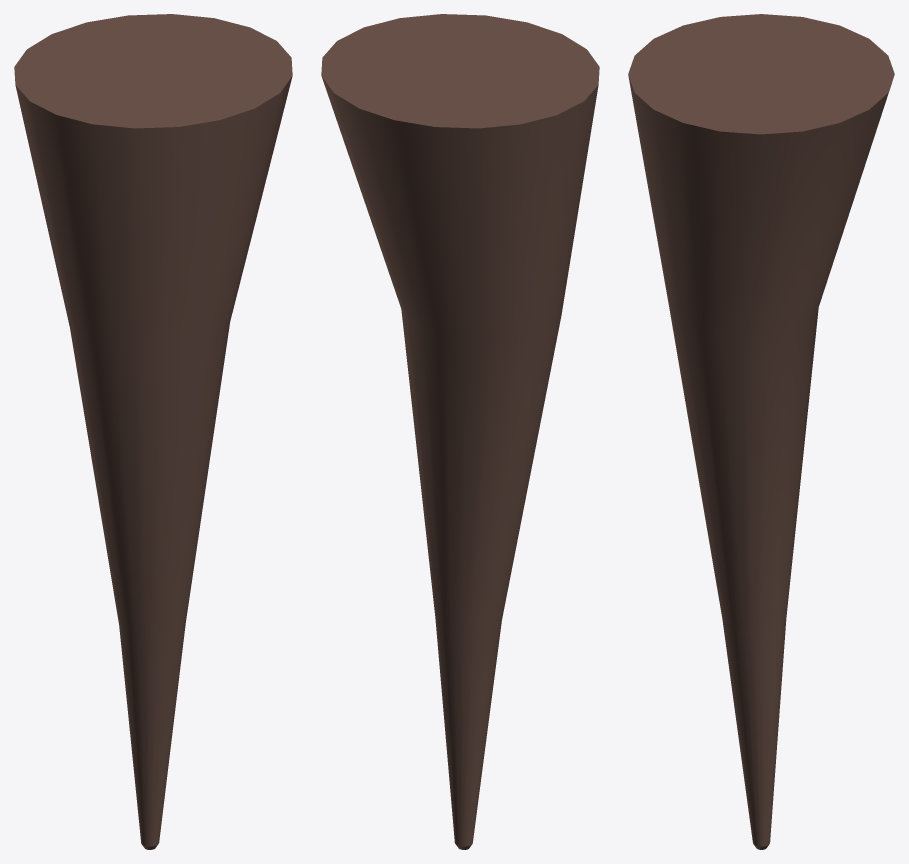
File: Stalactite.fbx
3 renders of one model, left to right at view 1: azimuth 30°, elevation 25°; view 2: azimuth 150°, elevation 25°; view 3: azimuth 270°, elevation 25°, orthographic.
Visible parts, largest first — view 1: Stalactite; view 2: Stalactite; view 3: Stalactite.
Boxes of the visible parts, x1,y1,x2,y2 form: Stalactite: (14, 14, 292, 849); Stalactite: (321, 14, 599, 849); Stalactite: (628, 14, 894, 849).
Bounding box in the file's own units: 1 × 0.9393 × 3.01.
